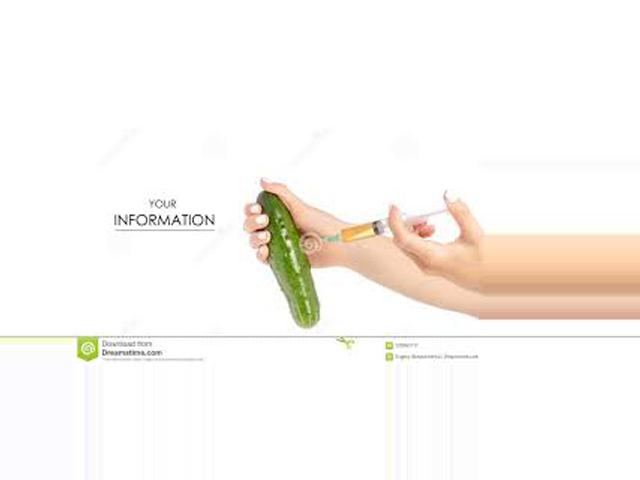cucumber: (257, 190, 320, 328)
